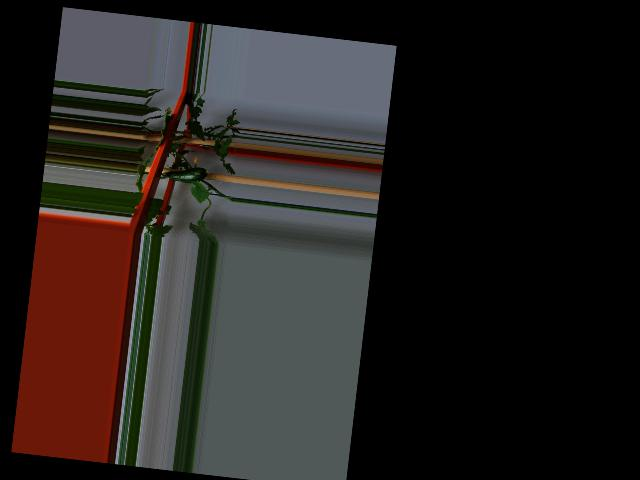cucumber: (167, 163, 211, 185)
